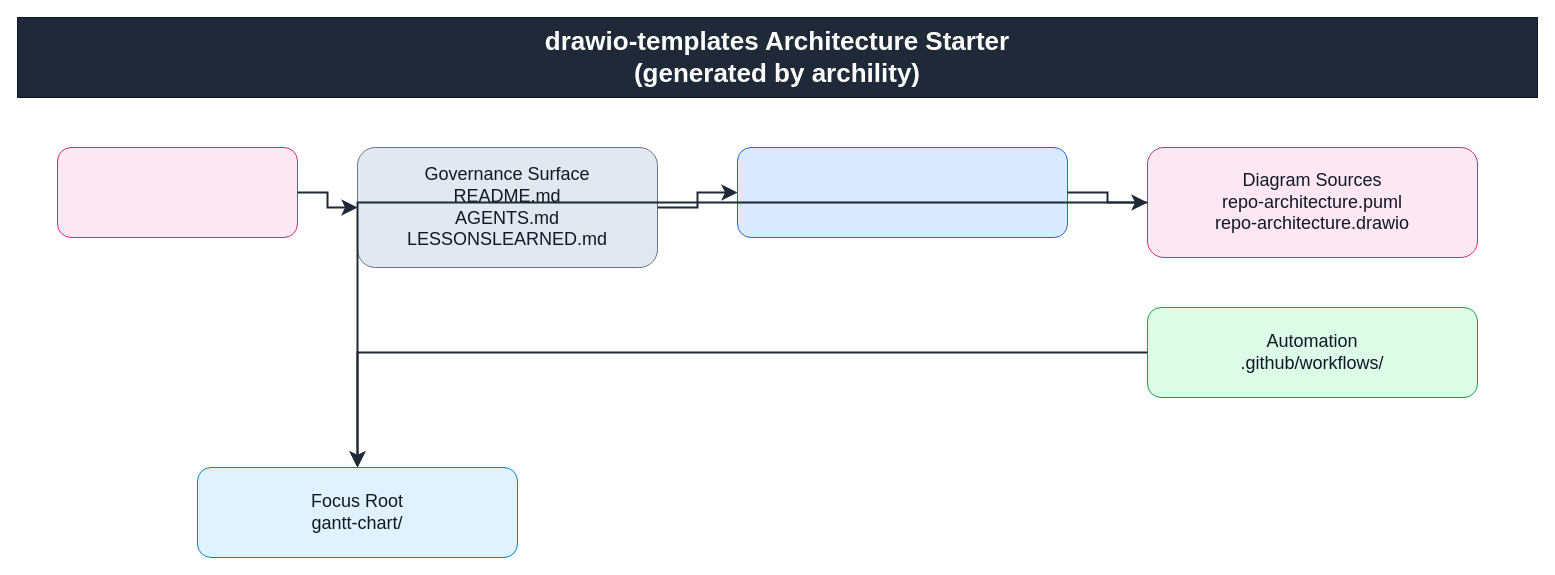
Image size: 1555x575. Some labels were removed from this diagram. Each missing label, with the centre of its shape:
Blueprint docs/contributor-architecture-blueprint.md: the point at 902,192
Contributor maintains repo shape: the point at 177,192
